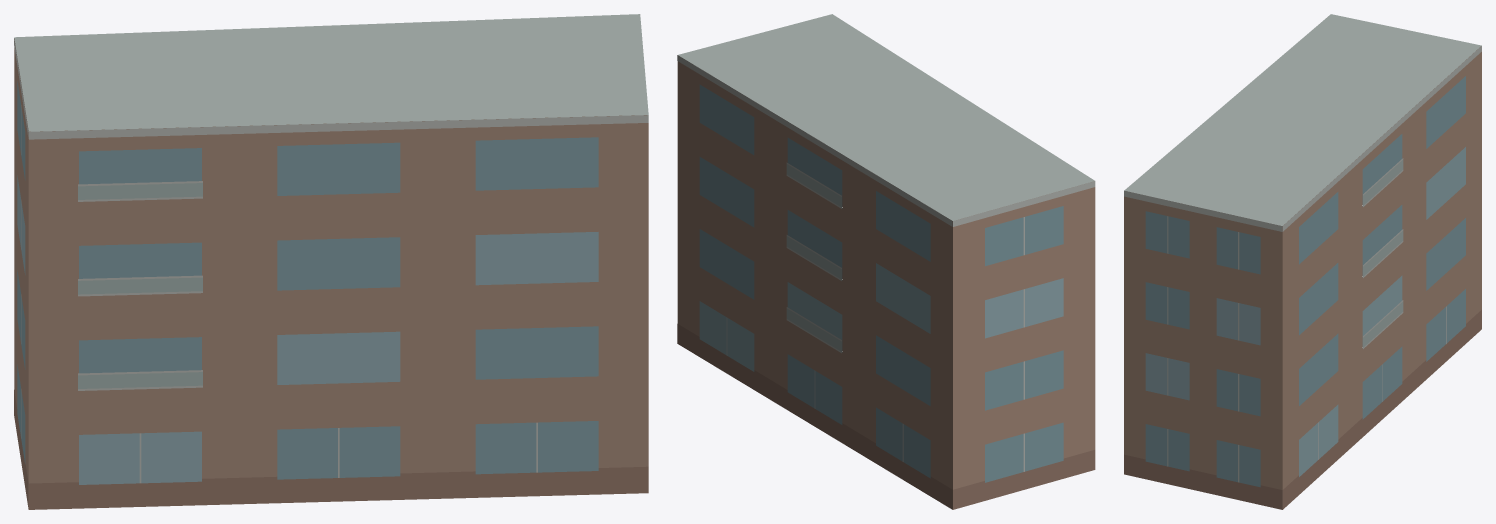
Rendered from survey-upis-32888538.glb.
3 renders of one model, left to right at view 1: azimuth 30°, elevation 25°; view 2: azimuth 150°, elevation 25°; view 3: azimuth 270°, elevation 25°, orthographic. The views are drawn at different scales.
Visible parts, largest first — view 1: survey-upis-32888538.tmp; view 2: survey-upis-32888538.tmp; view 3: survey-upis-32888538.tmp.
Part boxes in pixels (x1,y1,x2,y2): survey-upis-32888538.tmp: (14,14,648,509); survey-upis-32888538.tmp: (677,14,1095,509); survey-upis-32888538.tmp: (1124,14,1481,509).
Bounding box in the file's own units: 18.77 × 11.7 × 13.38.
